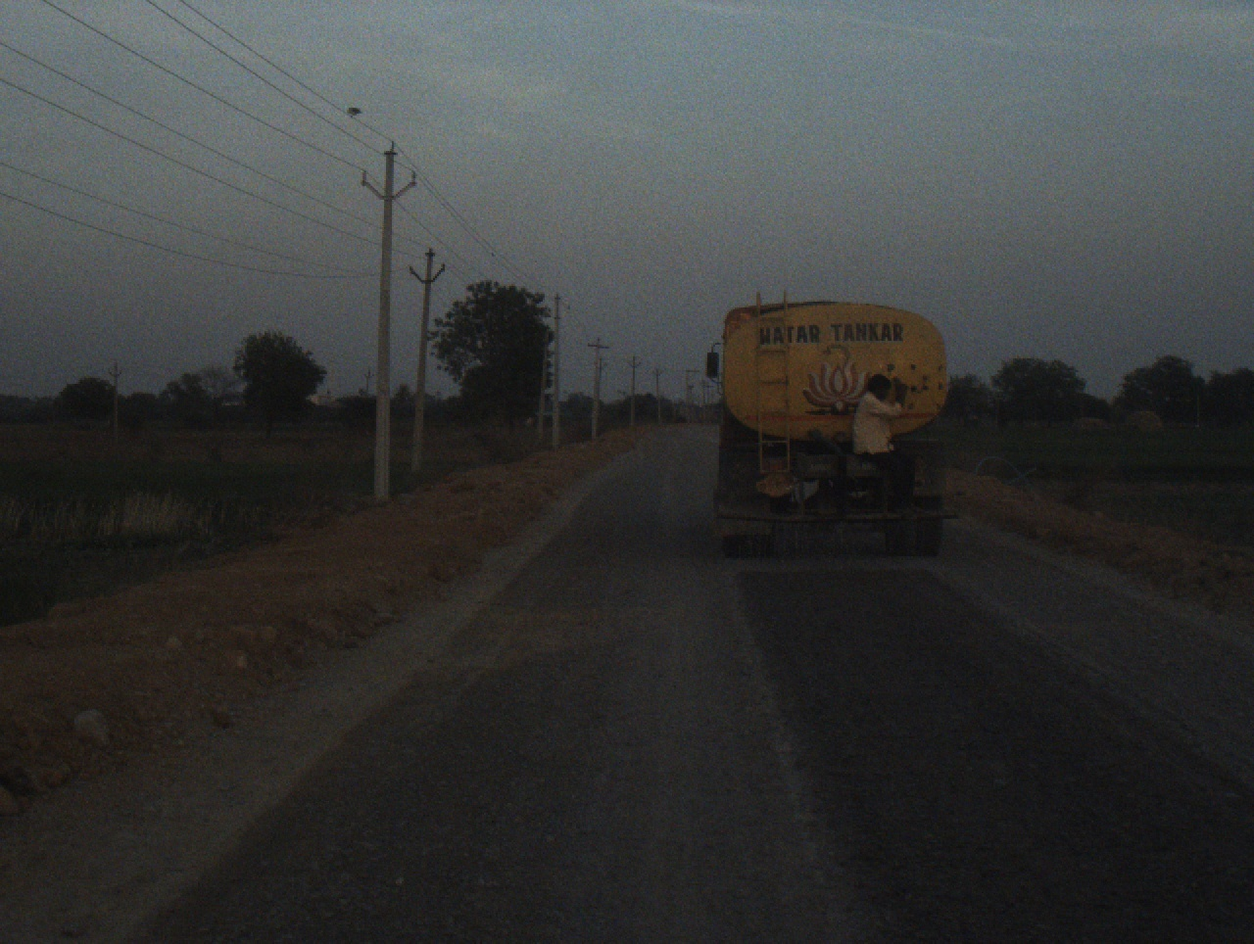rider: (849, 372, 914, 502)
truck: (703, 282, 957, 570)
